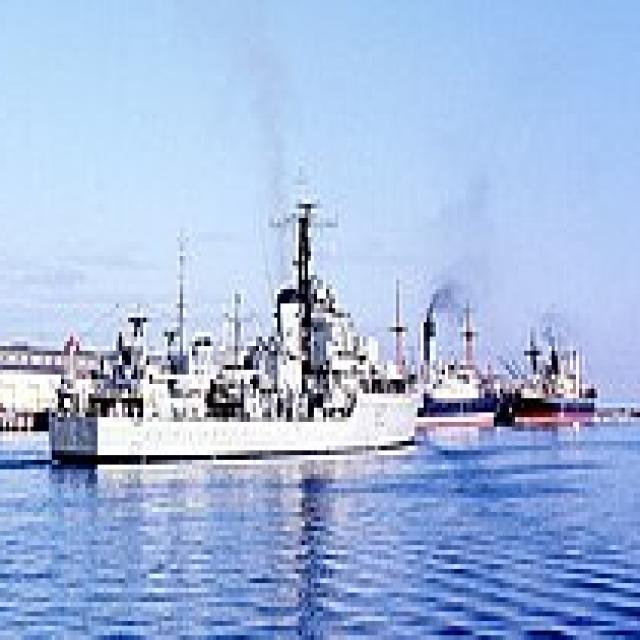Warship: (48, 190, 430, 464)
